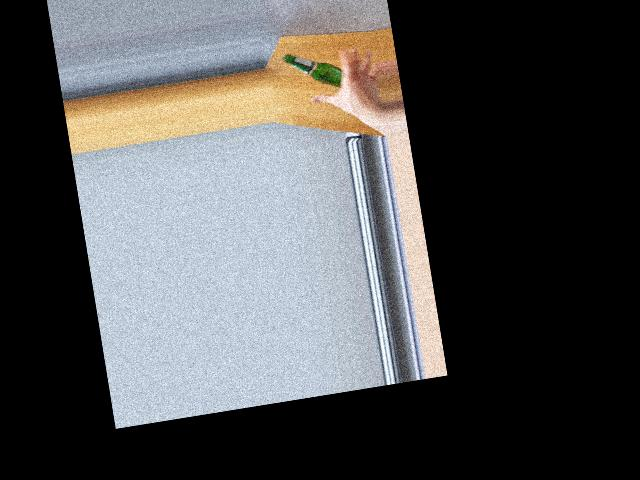beer: (281, 46, 344, 96)
